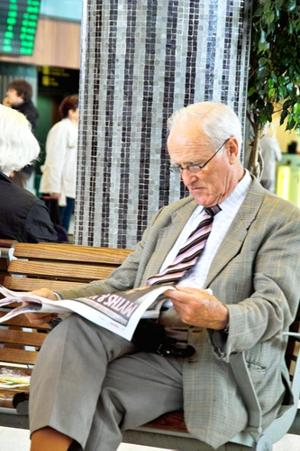person: (31, 101, 300, 450)
